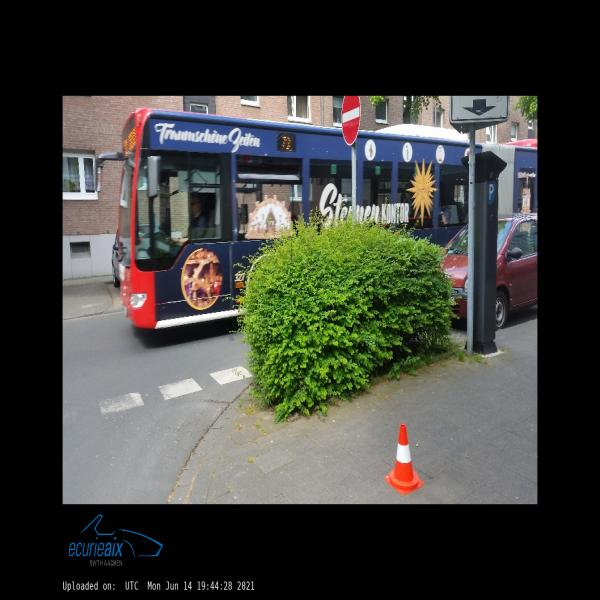orange_cone: (384, 424, 424, 494)
